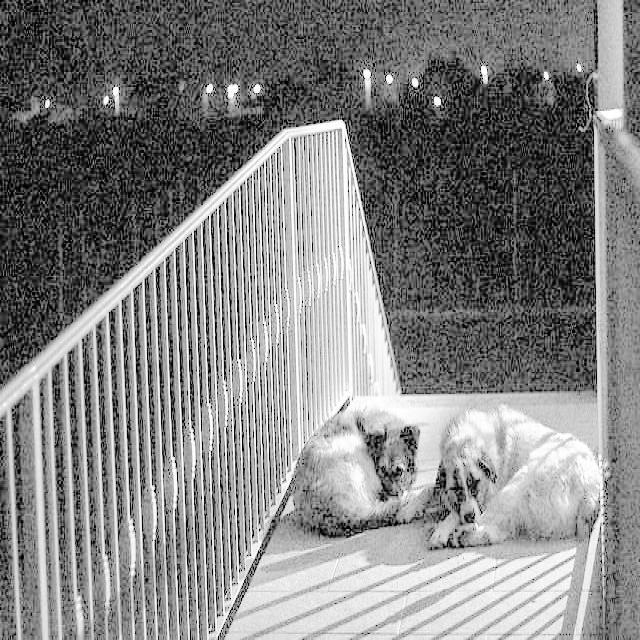Dog: (436, 367, 613, 571), (286, 381, 418, 533)
